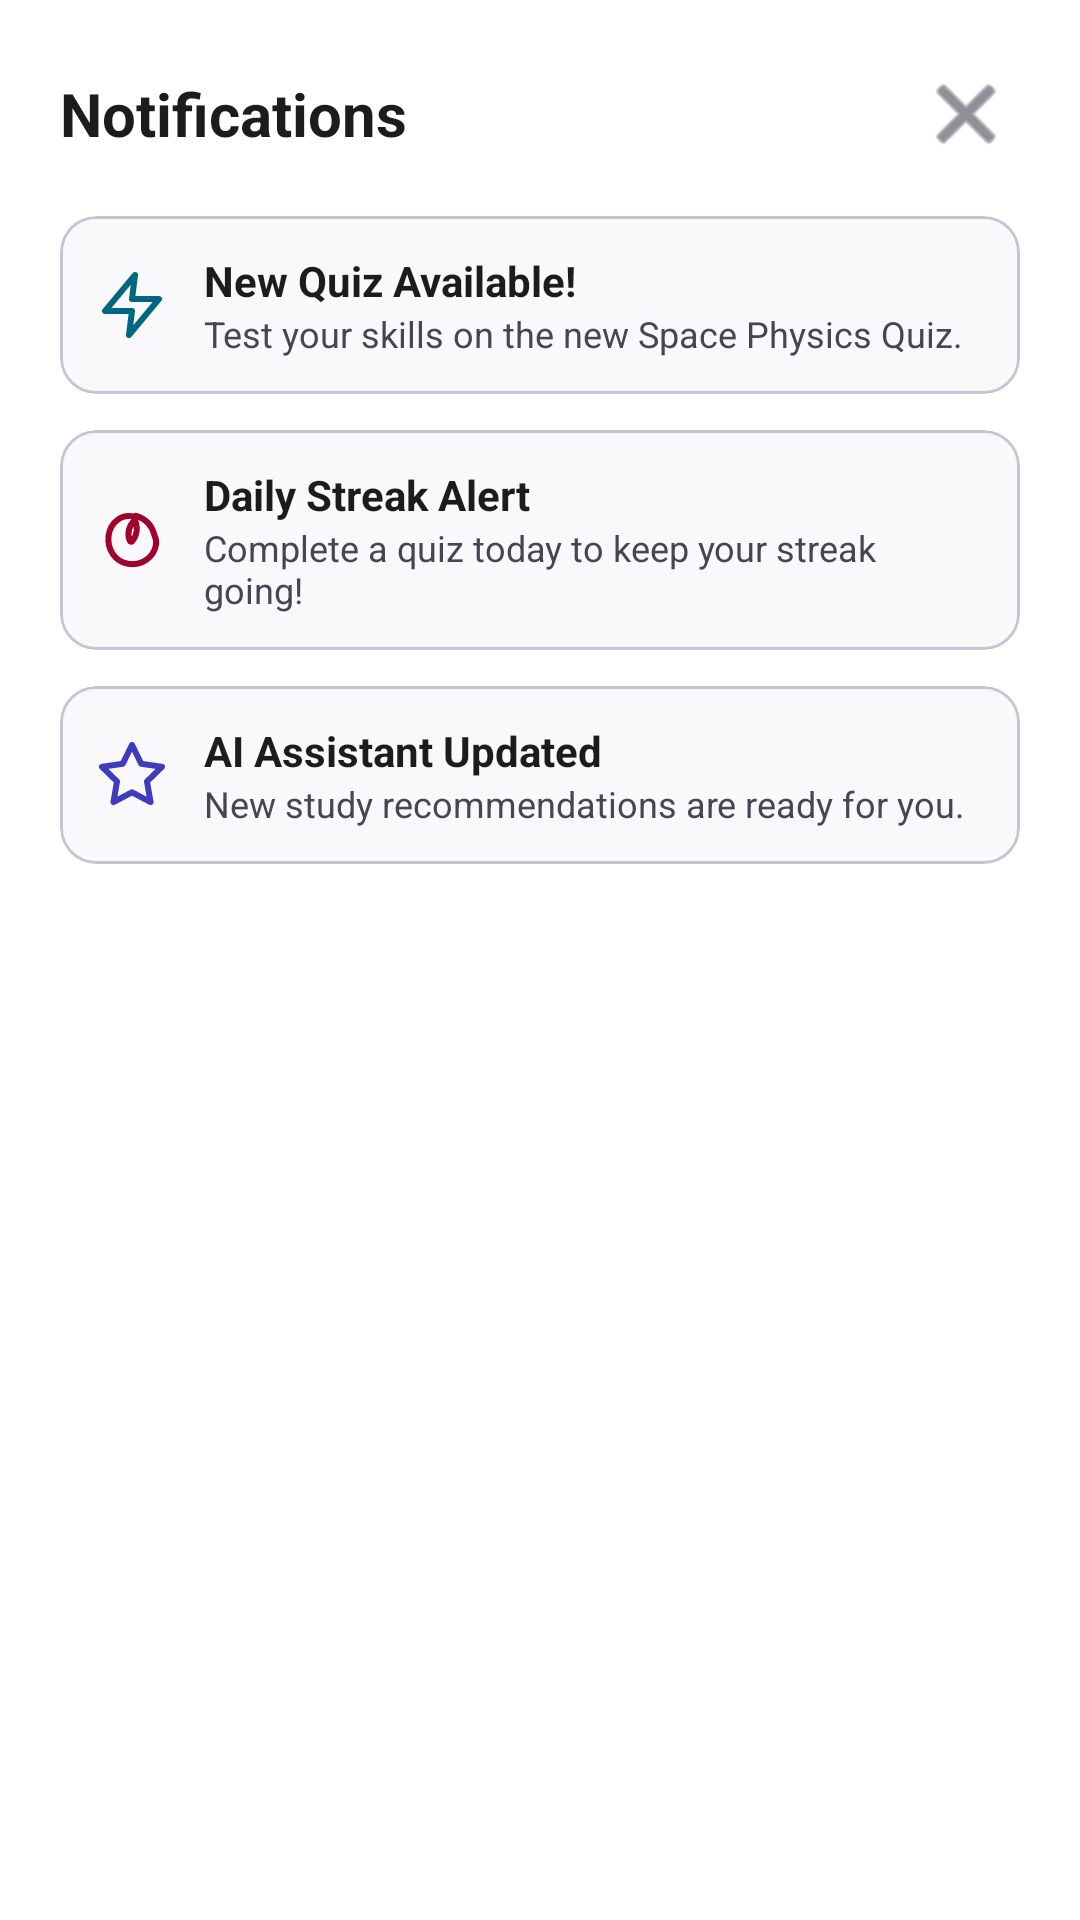

Icons on this 1080×1920 Android screen, each with its box as Rect(x1, y1, x2, y2):
close clear cancel: Rect(936, 84, 996, 144)
lightning: Rect(101, 272, 163, 338)
star: Rect(99, 742, 165, 806)
